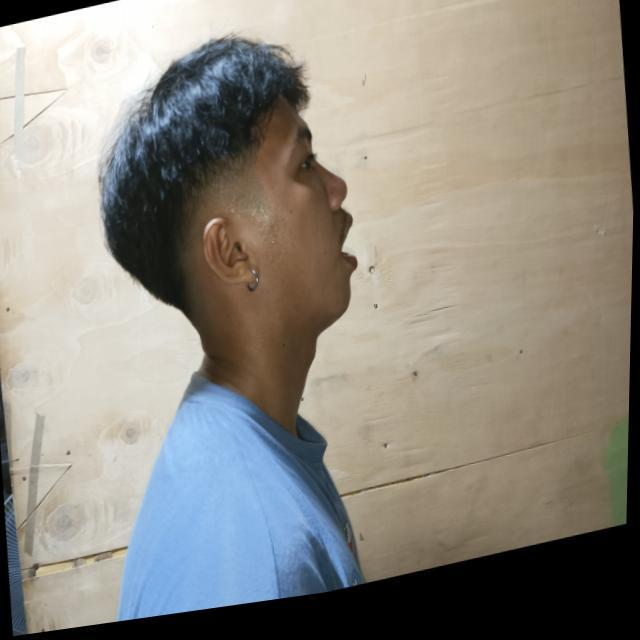Nonhelmet: (80, 22, 378, 364)
